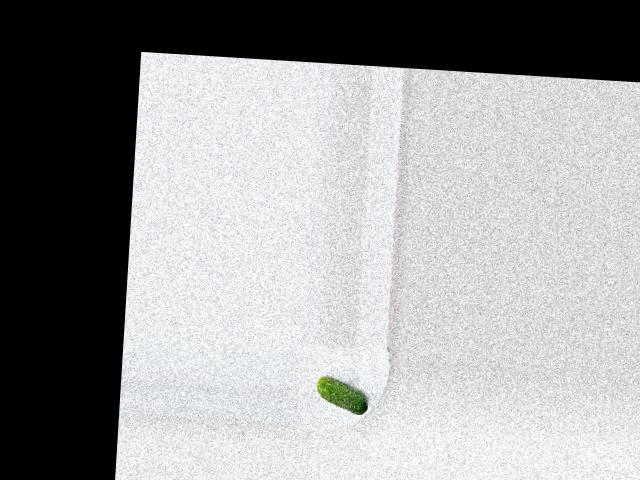cucumber: (315, 375, 368, 414)
